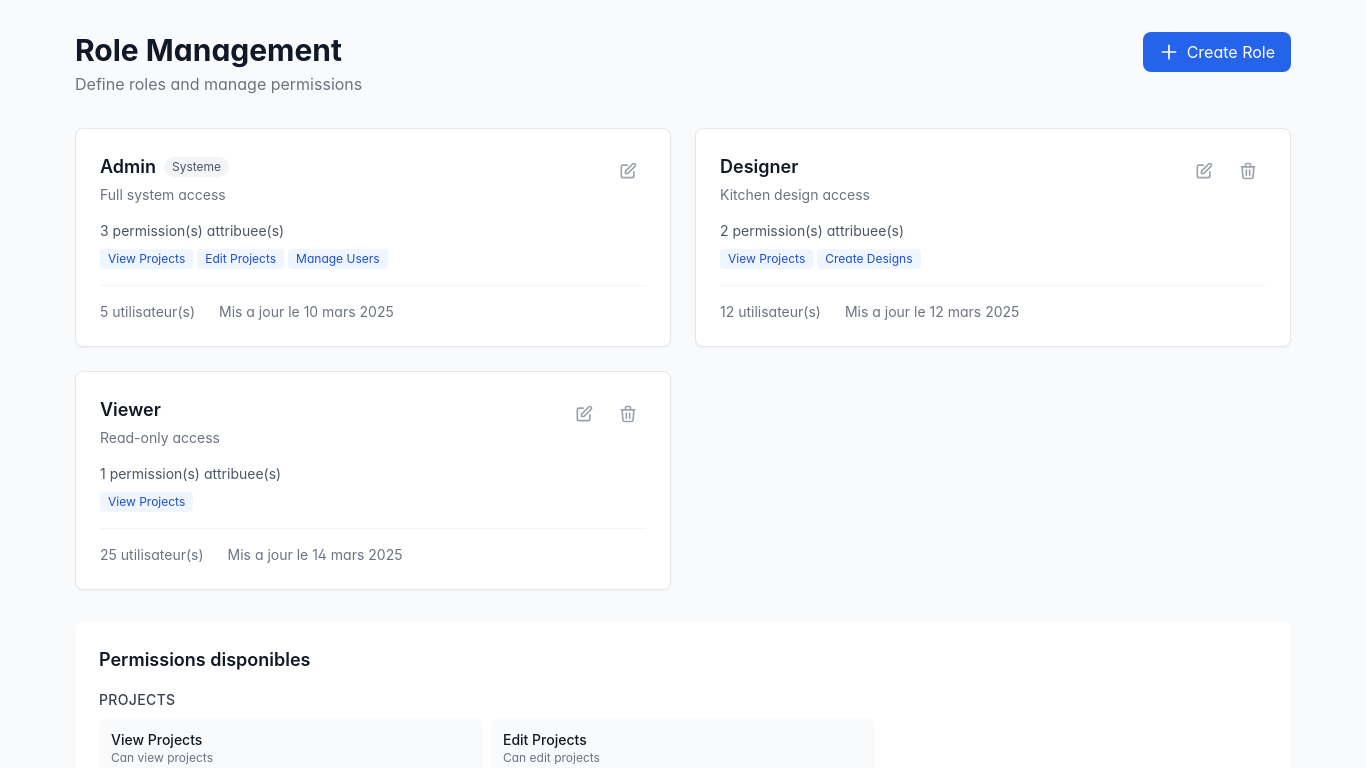
Test: RoleManagement › Create Role Modal › should open create modal when create button is clicked
Click the button "Create Role".
click(1217, 52)  # box [1143,32,1291,72]
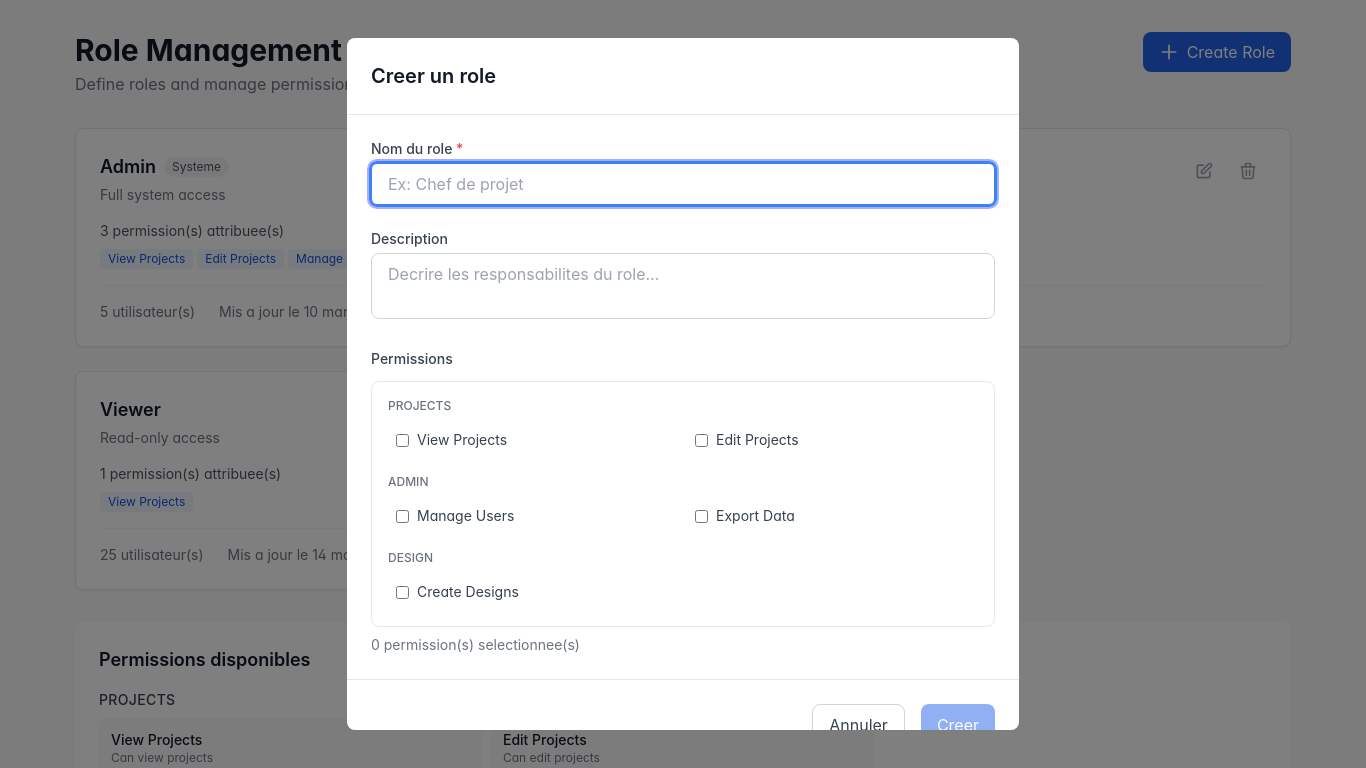
expect the dialog is shown: met, box [347,38,1019,730]
expect the heading "Creer un role" is shown: met, box [371,64,496,88]
